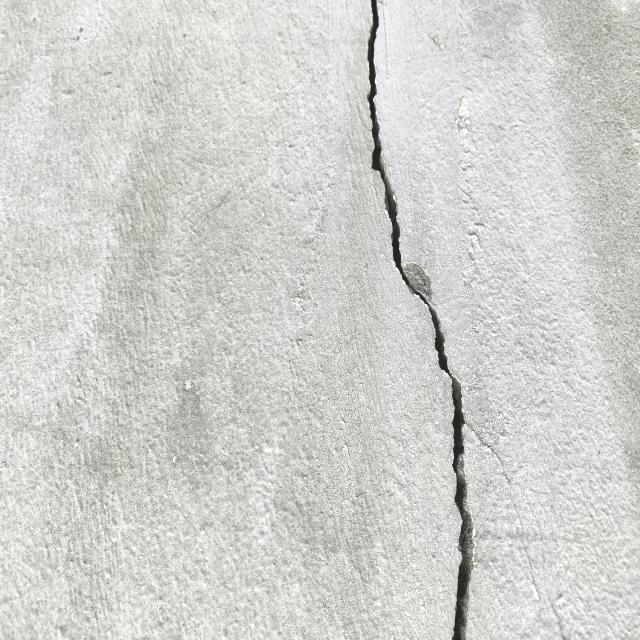SurfaceCrack: (324, 0, 512, 640)
